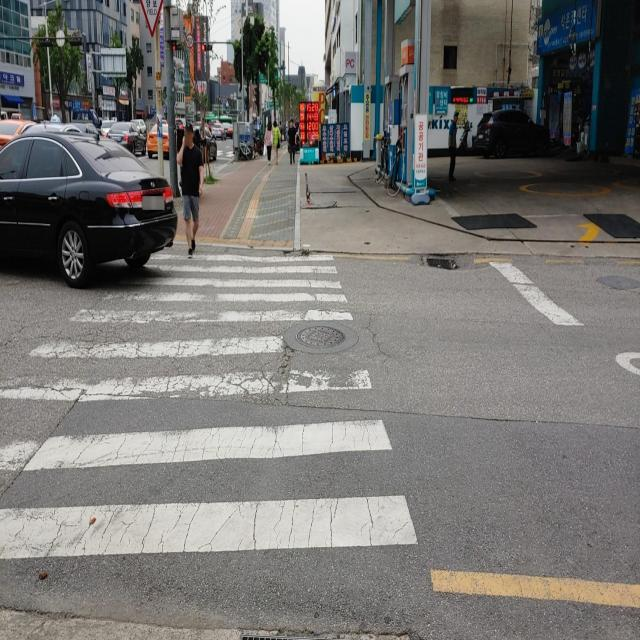횡단보도: (0, 253, 418, 561)
